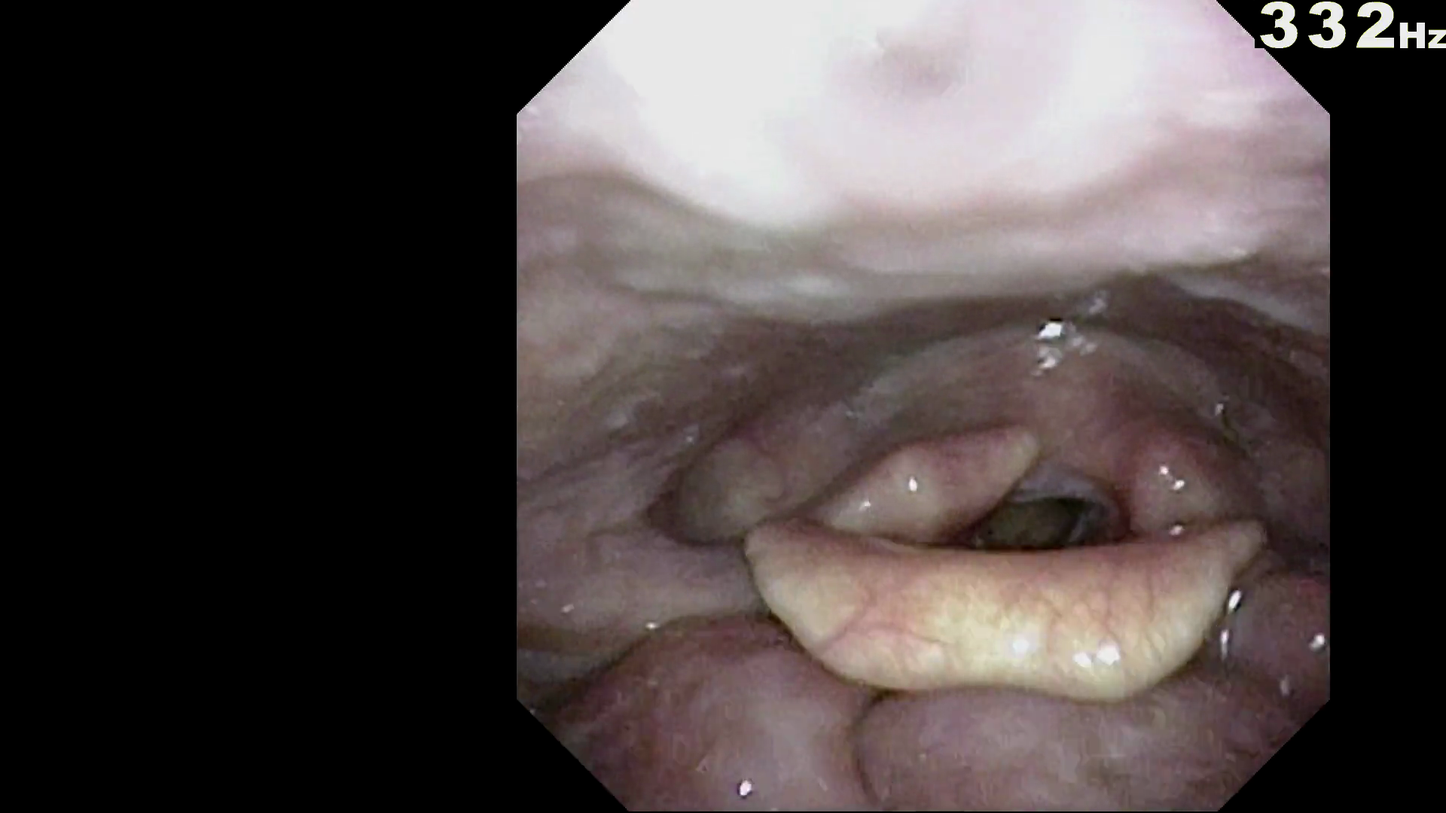epiglottis: (703, 548, 1245, 688)
trachea: (955, 489, 1110, 589)
